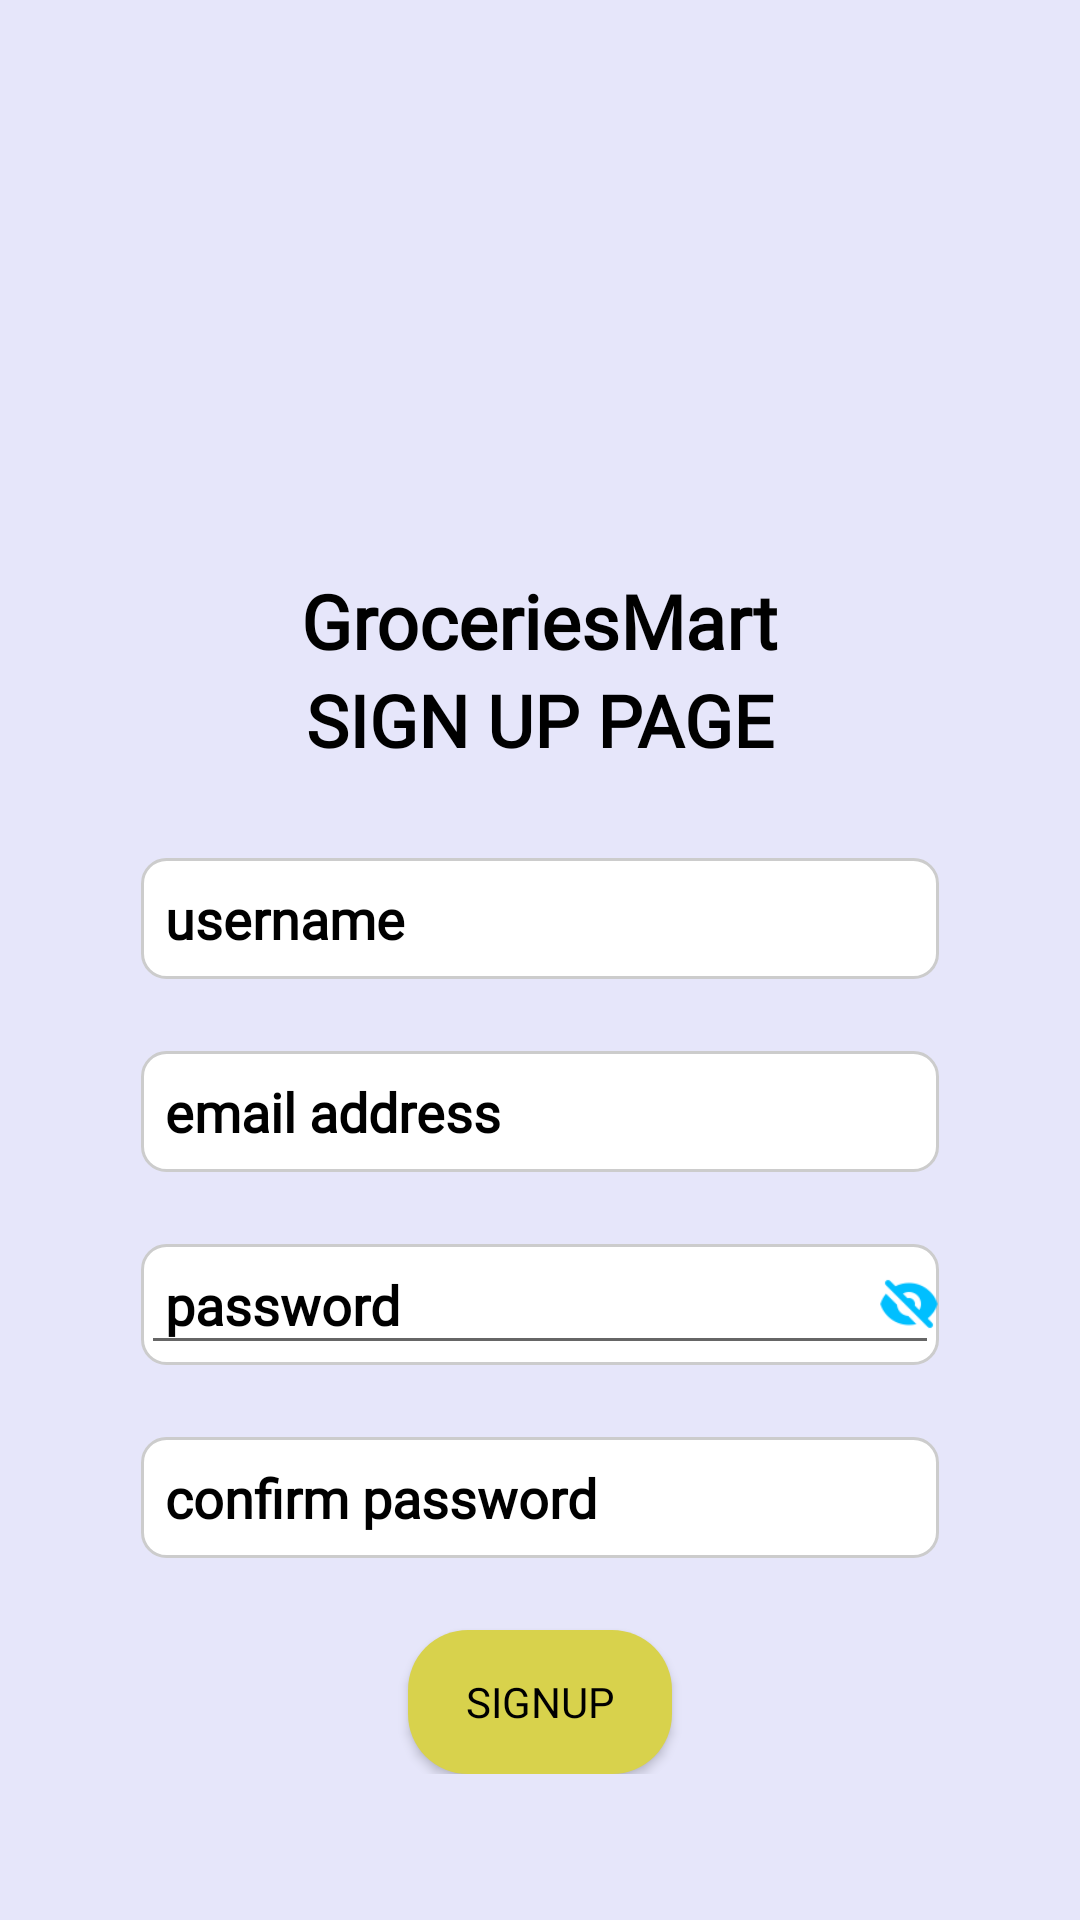

Icon bounding boxes for this 1080x1920 phone screenshot, format bbox=[x1, y1, x2, y2]:
eyeoff: bbox=[880, 1274, 939, 1334]
